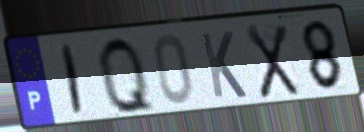0: (151, 32, 197, 109)
8: (300, 17, 345, 94)
I: (60, 42, 85, 120)
K: (197, 29, 250, 101)
Q: (96, 33, 159, 117)
X: (242, 22, 302, 102)
